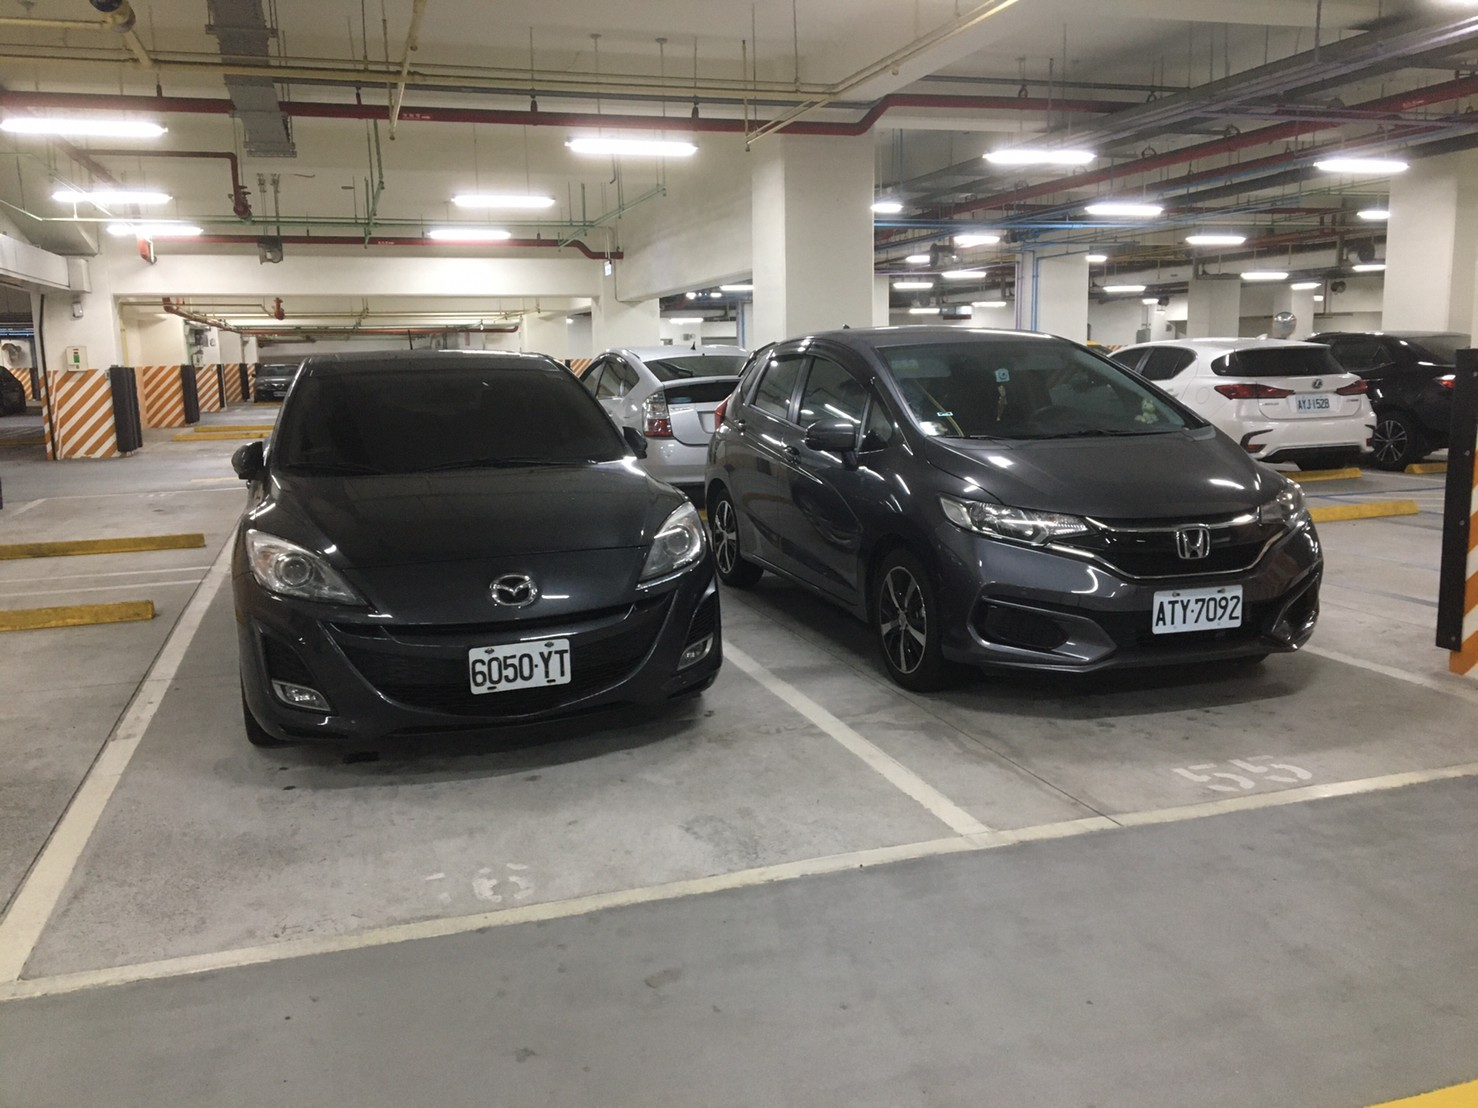LP: (460, 635, 574, 695), (1141, 582, 1256, 637), (1291, 390, 1340, 421)
